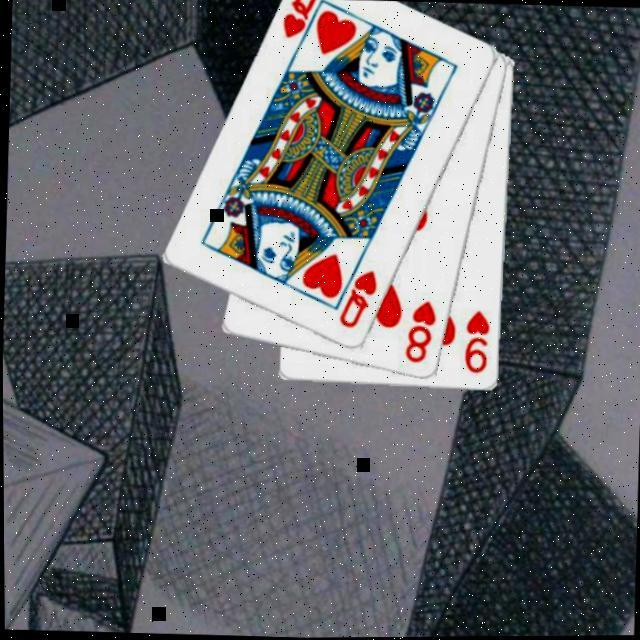8H: (398, 295, 436, 364)
9H: (458, 306, 490, 375)
QH: (333, 265, 377, 330), (274, 0, 325, 54)
